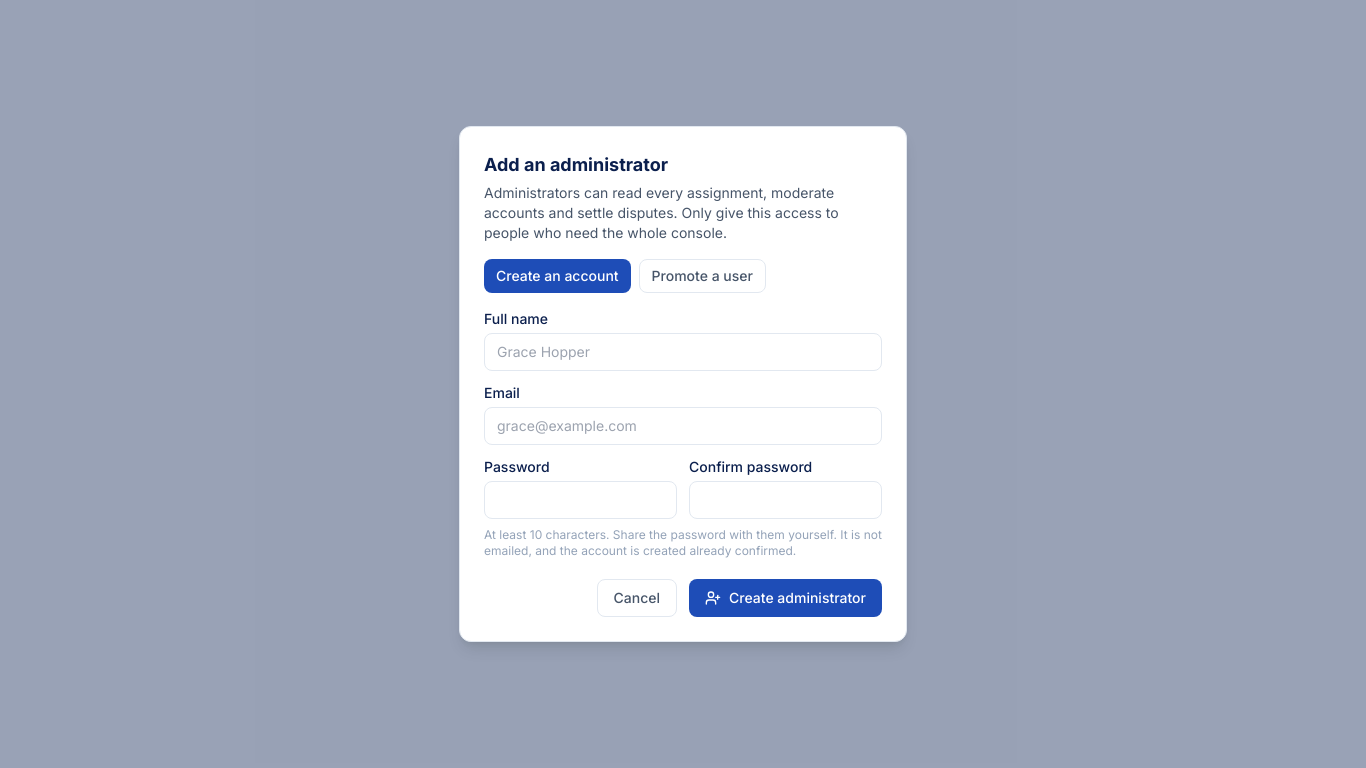
Test: AddAdminDialog › rejects an address the browser accepts but the server does not
This screenshot has width=1366, height=768.
Click the tab "Promote a user": click(702, 276) [639,259,766,293]
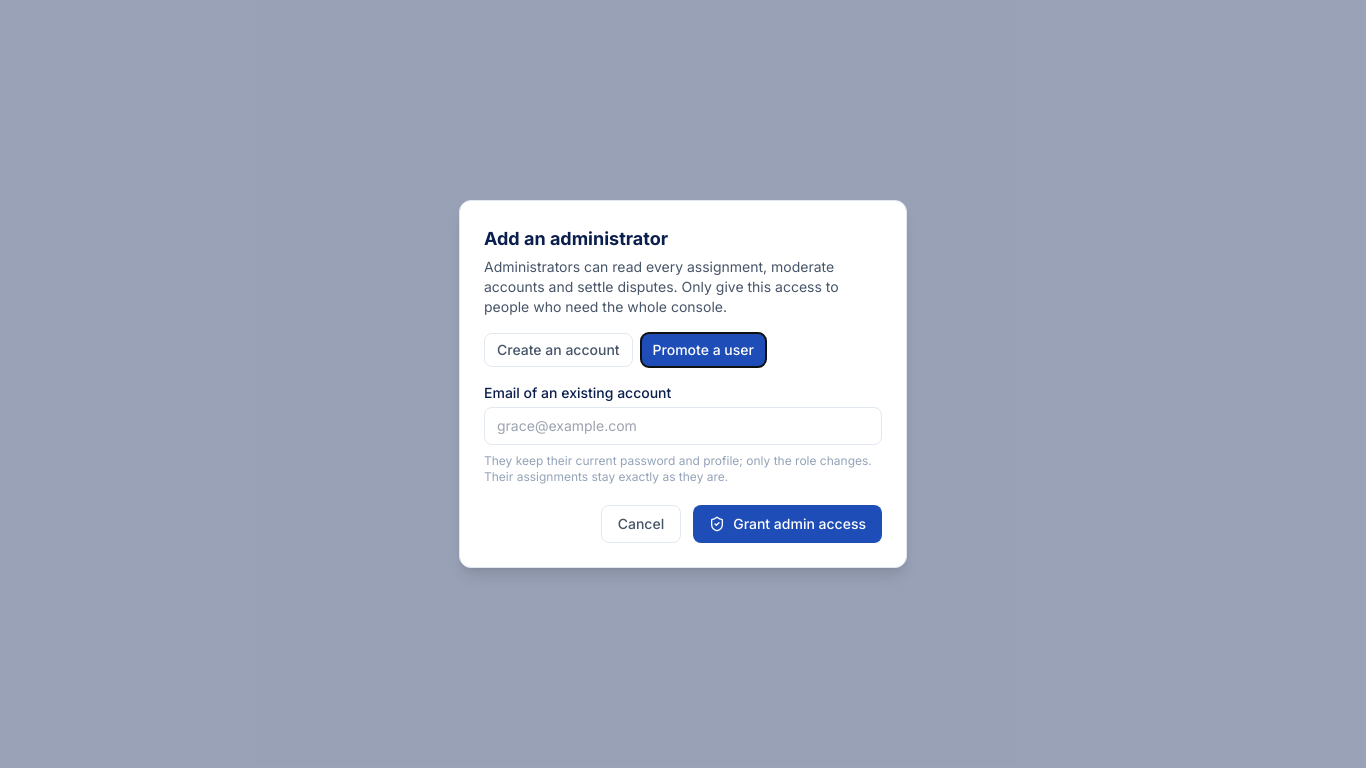
In the field labelled "Email of an existing account": (683, 426) [484,407,882,445], type "no@domain"
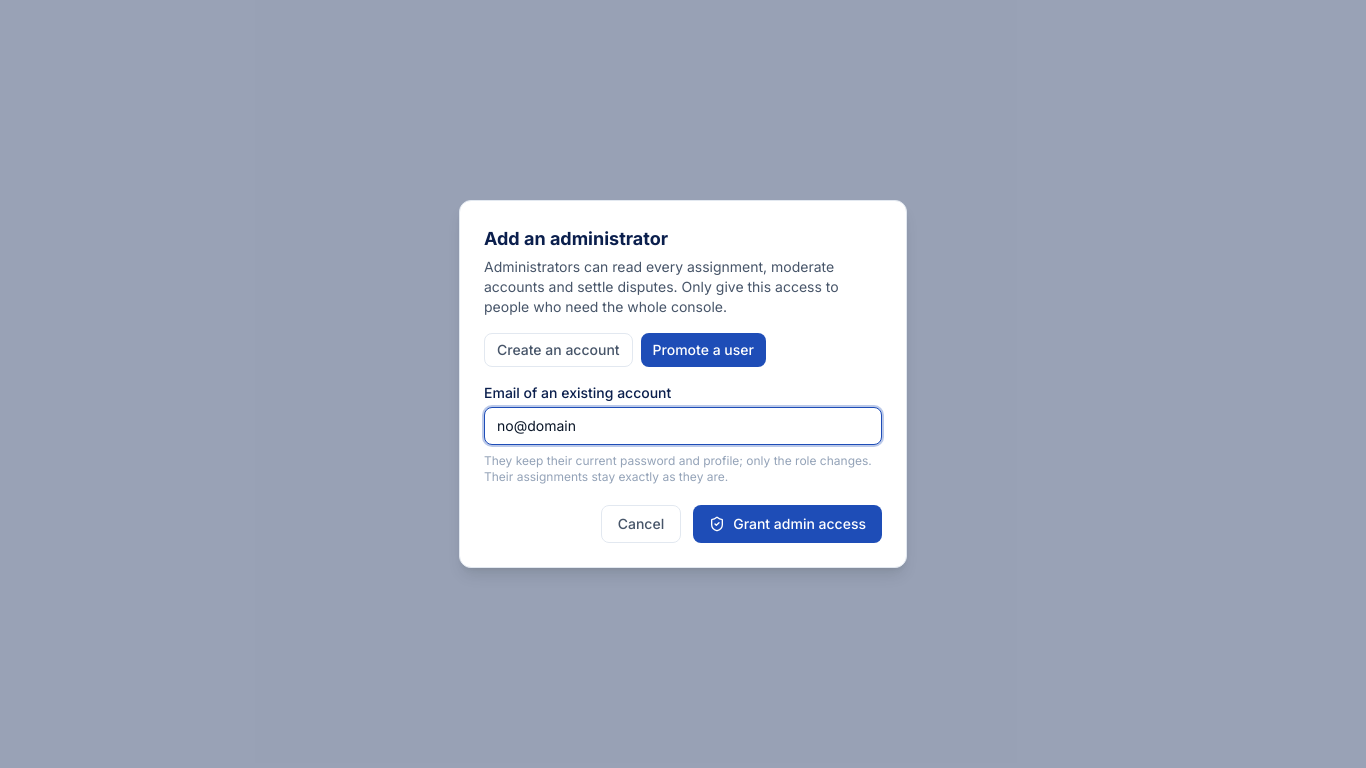
Click the button "Grant admin access": click(788, 524) [693,505,882,543]
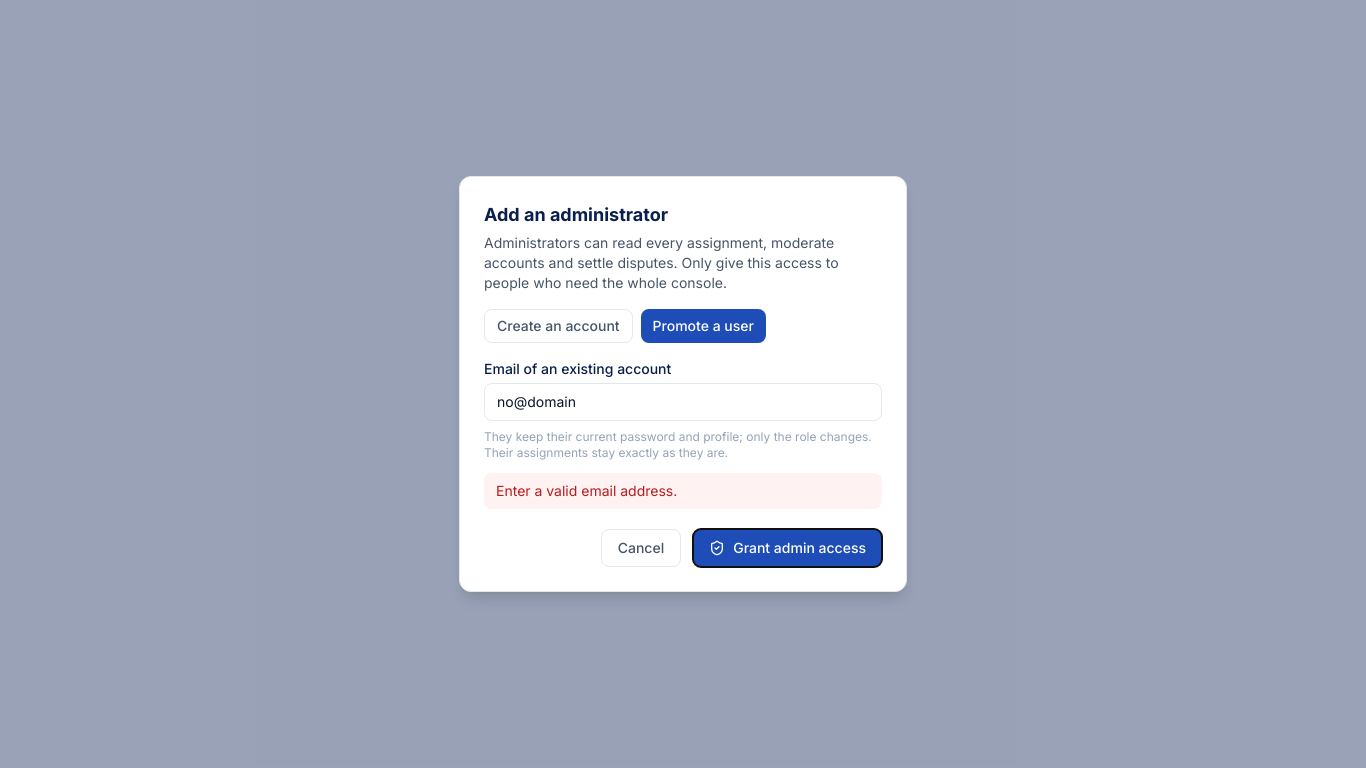
Check: the message reads "Enter a valid email address.", box [496,482,677,499]
